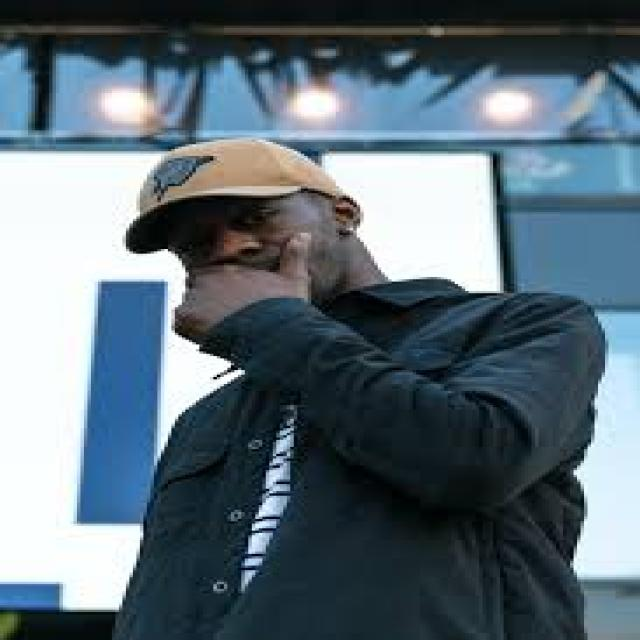cap: (122, 135, 371, 314)
